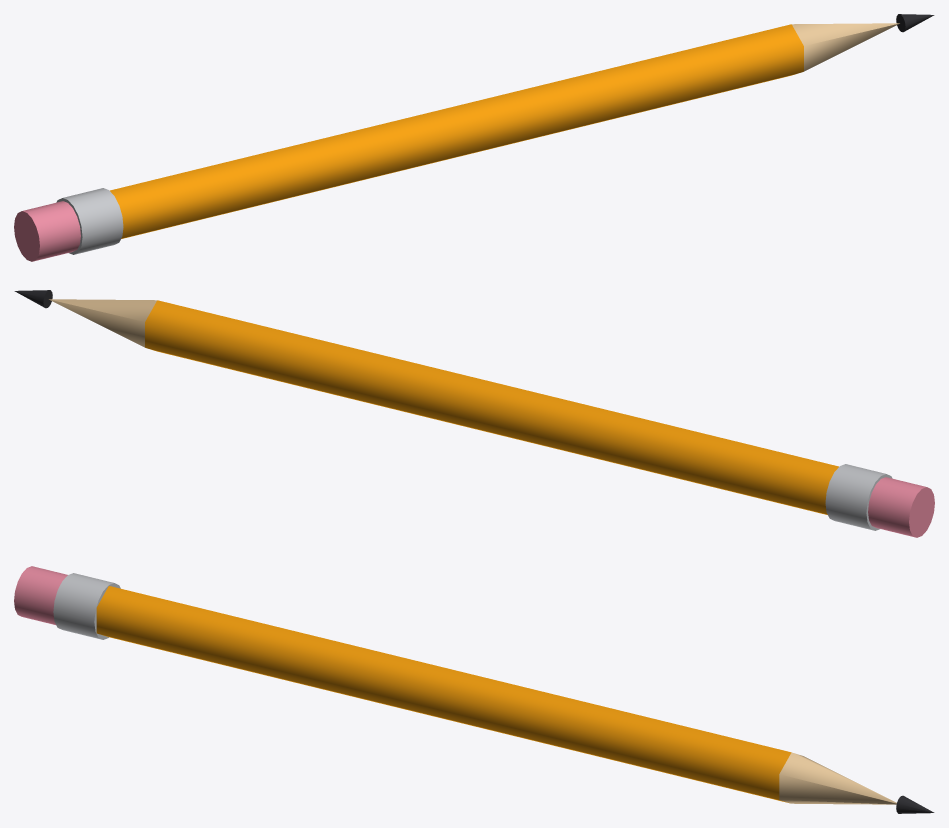
The model's file is pencil.obj.
3 renders of one model, top to bottom at view 1: azimuth 30°, elevation 25°; view 2: azimuth 150°, elevation 25°; view 3: azimuth 330°, elevation 25°, orthographic.
Visible parts, largest first — view 1: pencil_0_0, pencil_4_218, pencil_3_118, pencil_1_40; view 2: pencil_0_0, pencil_4_218, pencil_3_118, pencil_1_40; view 3: pencil_0_0, pencil_1_40, pencil_3_118, pencil_4_218.
Boxes of the visible parts, x1=… form: pencil_0_0: x1=110, y1=24, x2=803, y2=238; pencil_4_218: x1=14, y1=201, x2=80, y2=261; pencil_3_118: x1=56, y1=188, x2=123, y2=254; pencil_1_40: x1=792, y1=23, x2=899, y2=71; pencil_0_0: x1=145, y1=300, x2=838, y2=514; pencil_4_218: x1=868, y1=477, x2=934, y2=537; pencil_3_118: x1=825, y1=464, x2=892, y2=530; pencil_1_40: x1=49, y1=299, x2=156, y2=347; pencil_0_0: x1=96, y1=586, x2=791, y2=803; pencil_1_40: x1=779, y1=752, x2=896, y2=804; pencil_3_118: x1=53, y1=573, x2=120, y2=639; pencil_4_218: x1=14, y1=566, x2=67, y2=624.
Bounding box in the file's own units: 0.133 × 0.0074 × 0.0074.
